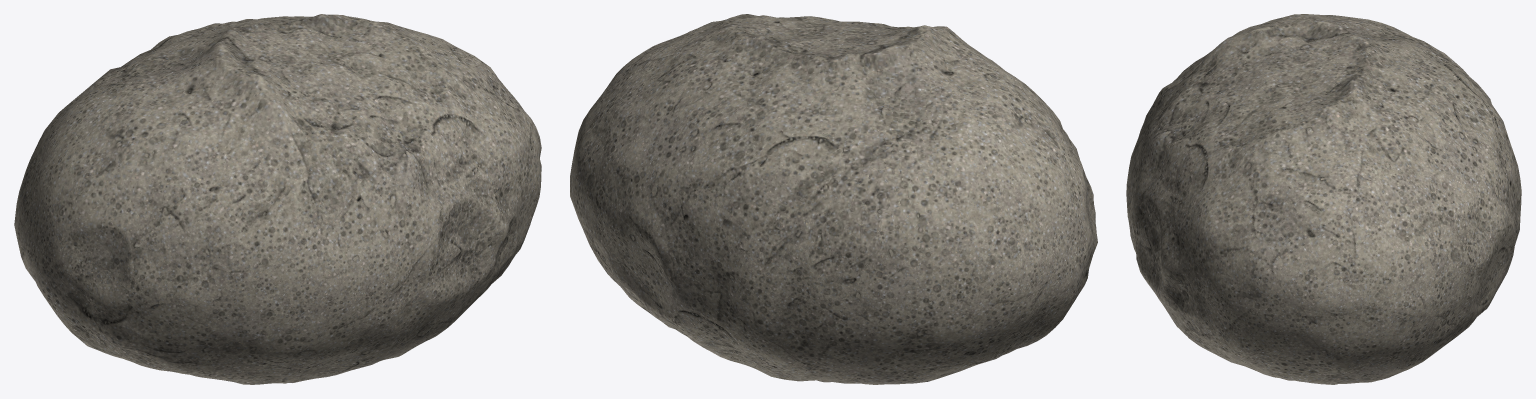
File: dimorphos.glb
3 renders of one model, left to right at view 1: azimuth 30°, elevation 25°; view 2: azimuth 150°, elevation 25°; view 3: azimuth 270°, elevation 25°, orthographic. The views are drawn at different scales.
Visible parts, largest first — view 1: Dimorphos_LP; view 2: Dimorphos_LP; view 3: Dimorphos_LP.
Boxes of the visible parts, left/top/right/bottom form: Dimorphos_LP: left=14, top=14, right=541, bottom=384; Dimorphos_LP: left=570, top=14, right=1097, bottom=384; Dimorphos_LP: left=1126, top=14, right=1521, bottom=384.
Bounding box in the file's own units: 208 × 136 × 159.
Materials: 1 (1 with a texture image).
